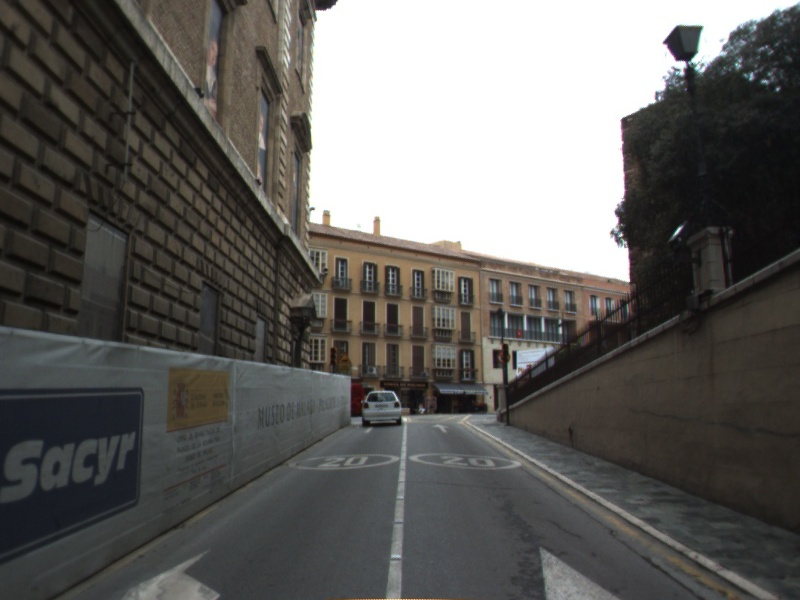STRAIGHT: (430, 422, 451, 434)
